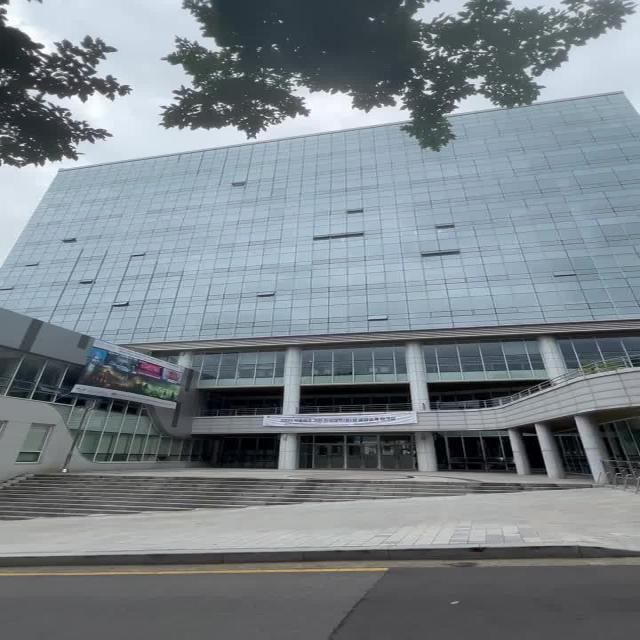building: (71, 146, 640, 456)
